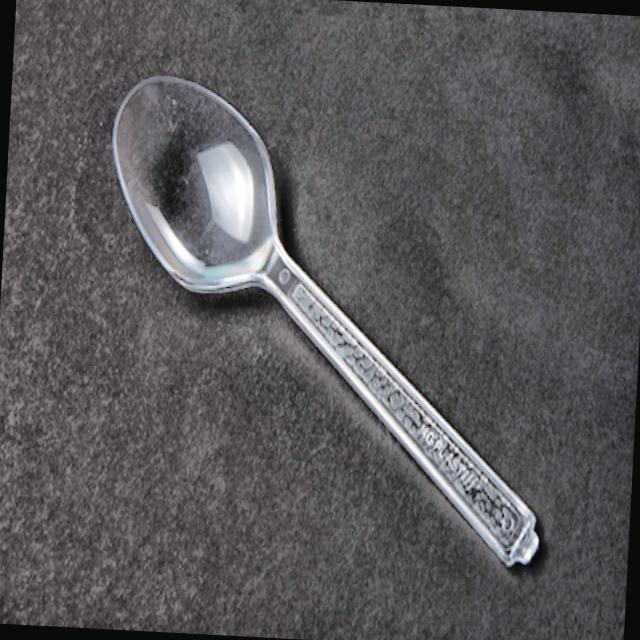plastic utensil: (105, 69, 547, 574)
